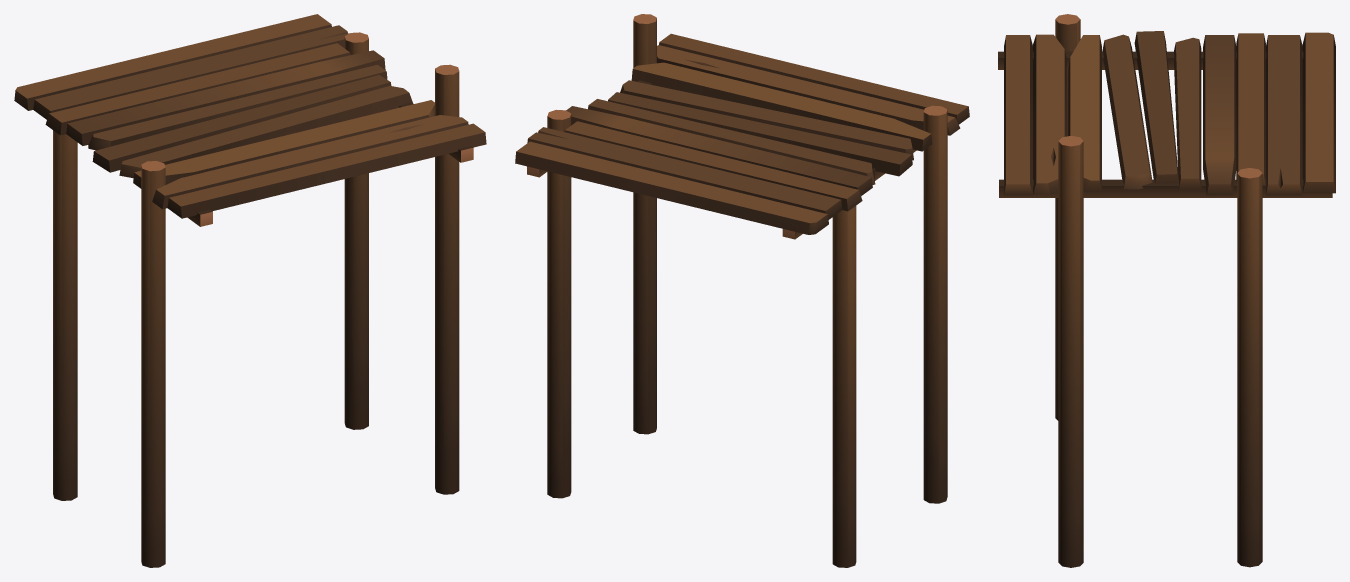
Rendered from Wooden_Ramp_1C.fbx.
The picture shows the model from 3 angles, left to right: view 1: azimuth 30°, elevation 25°; view 2: azimuth 150°, elevation 25°; view 3: azimuth 270°, elevation 25°; orthographic projection. The views are drawn at different scales.
Parts seen in each view (by area): view 1: Wooden_Ramp_1C; view 2: Wooden_Ramp_1C; view 3: Wooden_Ramp_1C.
Boxes of the visible parts, bbox=[...] form: Wooden_Ramp_1C: bbox=[14, 14, 486, 567]; Wooden_Ramp_1C: bbox=[515, 14, 969, 567]; Wooden_Ramp_1C: bbox=[998, 14, 1335, 567].
Bounding box in the file's own units: 439 × 553 × 402.
